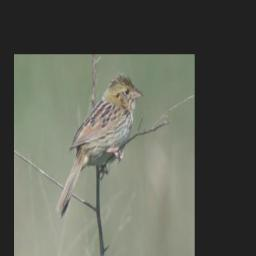Sparrow: (53, 71, 145, 220)
